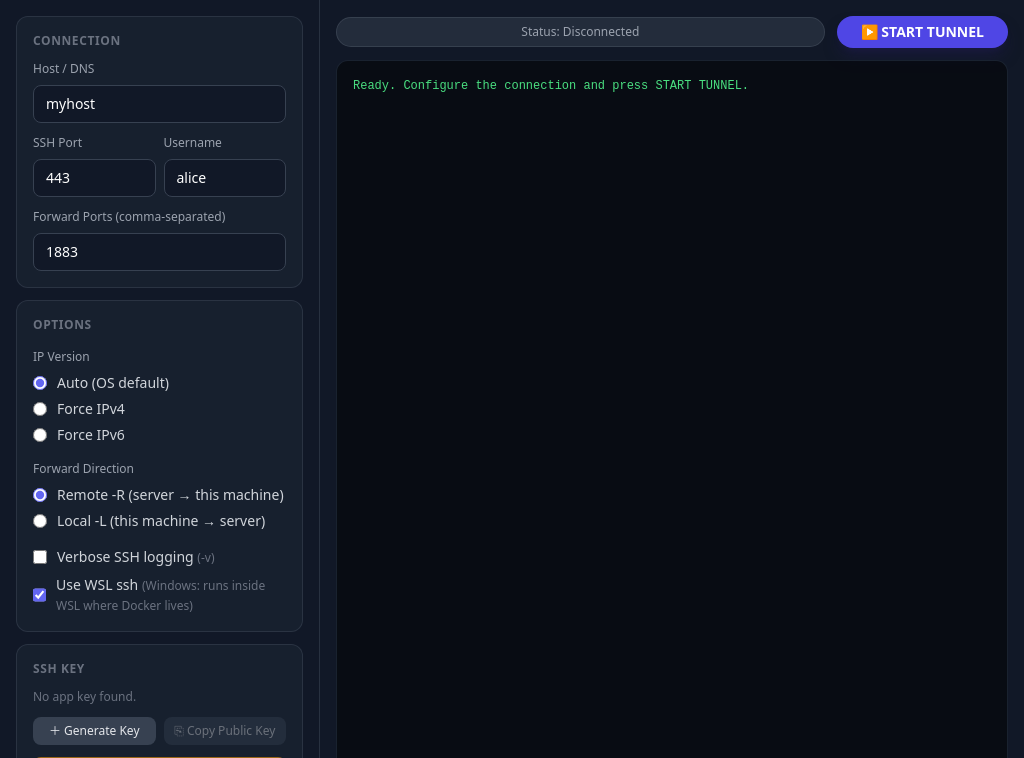
SshTab toggleTunnel validation › shows WSL key-path error returned by StartTunnel
What coordinates should you click on to do the following:
click the button "▶ START TUNNEL"
I would click on:
 (922, 32)
Its box is [837,16,1008,48].
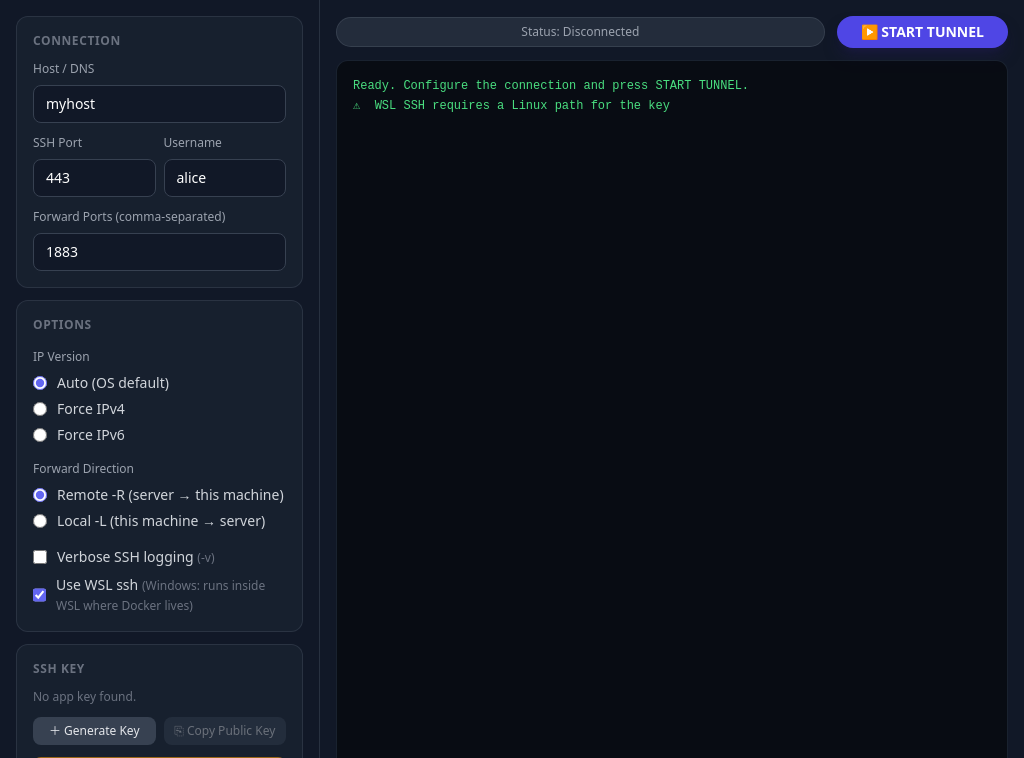
Now the text "WSL SSH requires a Linux path" is shown, box [353,79,749,112]
